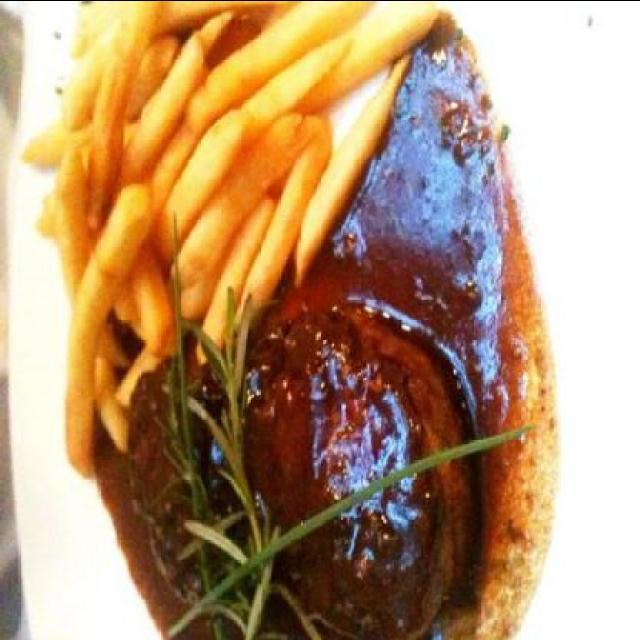French fries: (48, 2, 362, 444)
Steak: (215, 296, 462, 620)
